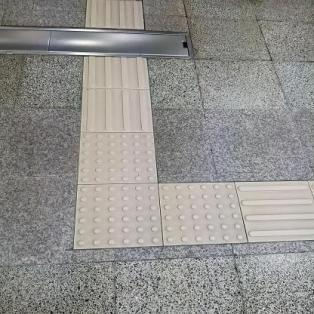Podoctatil: (67, 0, 166, 254), (61, 178, 314, 256)
